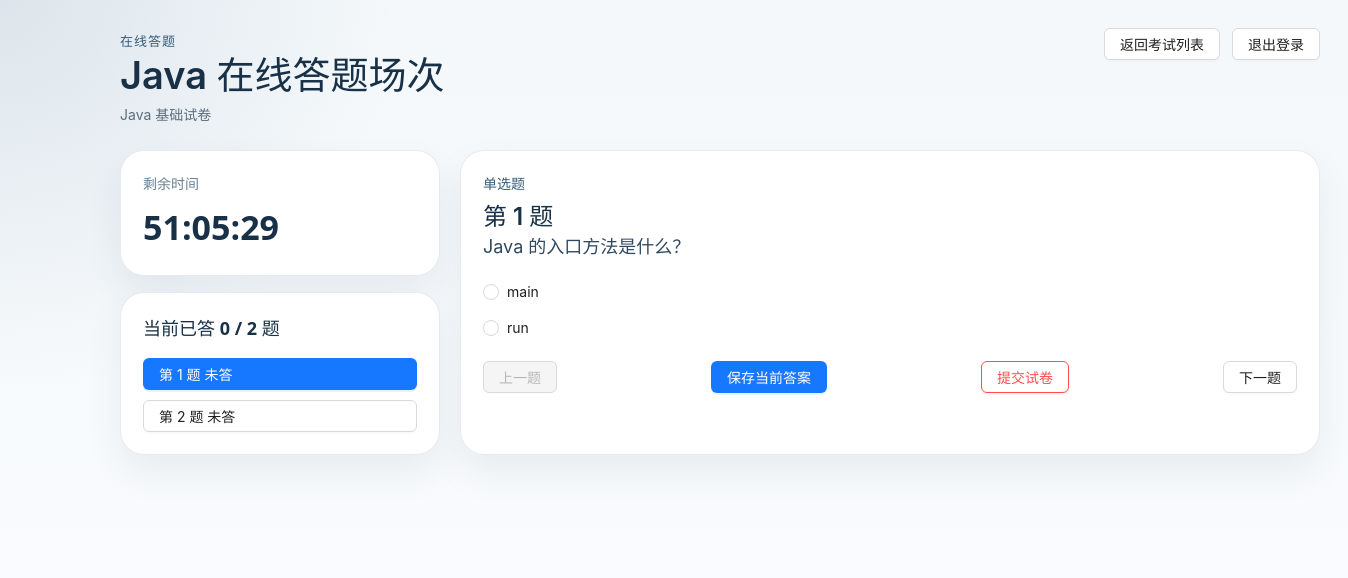
Test: CandidateAnsweringPage › saves current question before switching to another question
What coordinates should you click on to do the following:
click the radio button labelled "main"
I would click on:
 (515, 292)
Its box is [483,281,547,303].
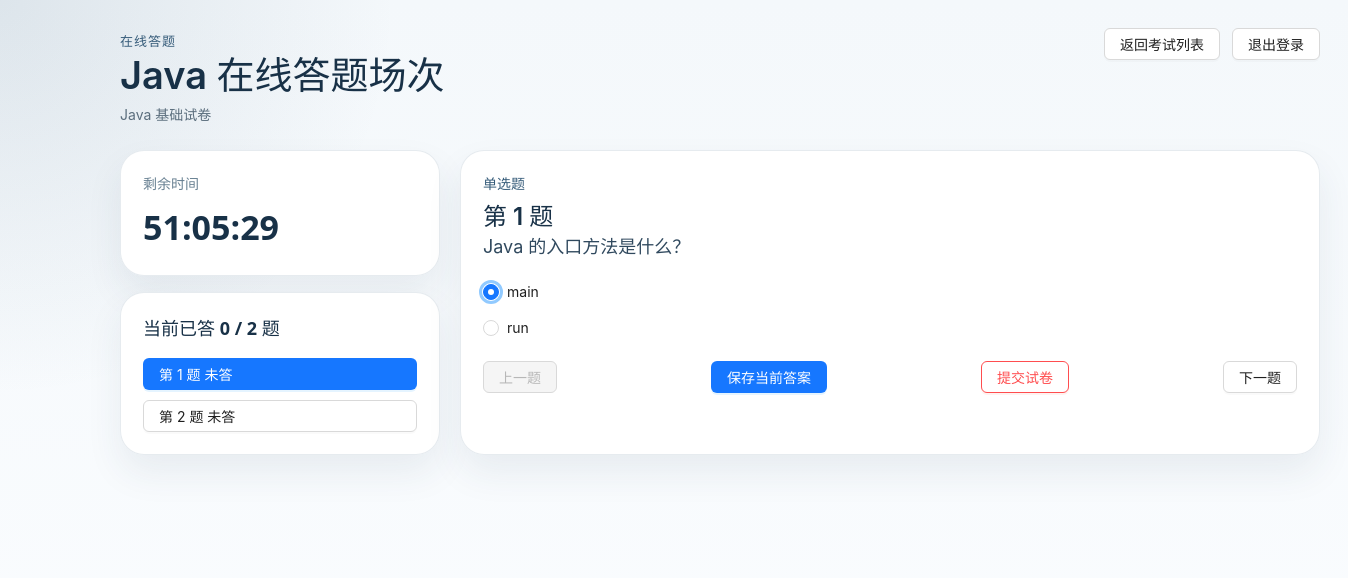
What coordinates should you click on to do the following:
click the button "第 2 题 未答"
I would click on:
 (197, 416)
Its box is [143,400,417,432].
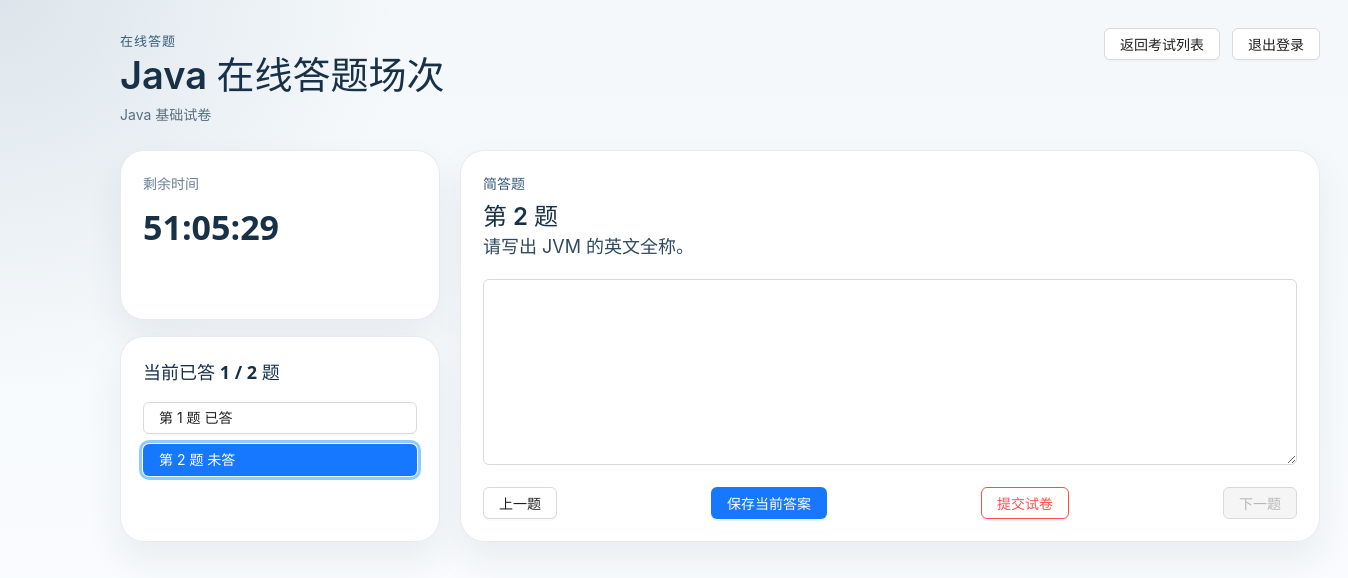
Expected: the text "当前已答 1 / 2 题" is shown, [143,360,280,384]
Expected: the text box named "简答题答案" is shown, [483,279,1297,465]
